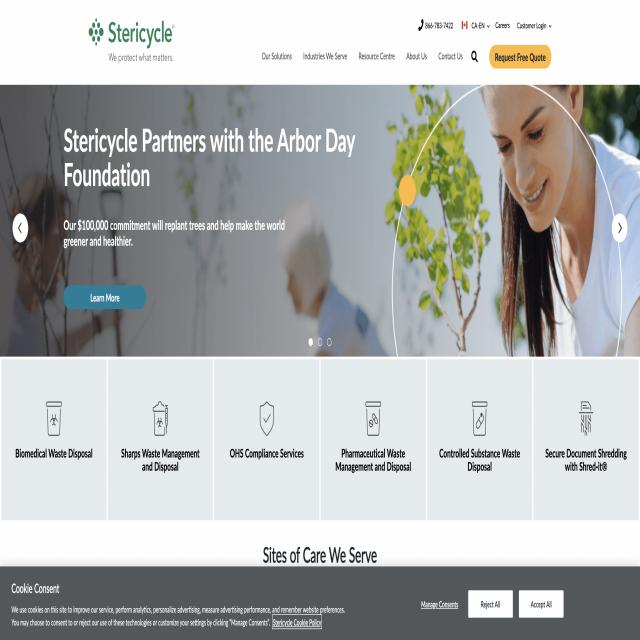Logo: (78, 5, 181, 70)
Navigation: (252, 48, 566, 69)
